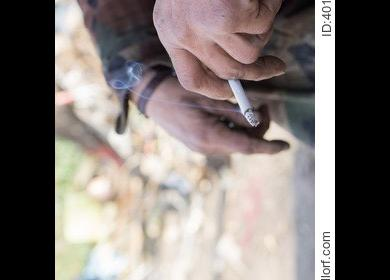Cigarette: (230, 80, 258, 125)
